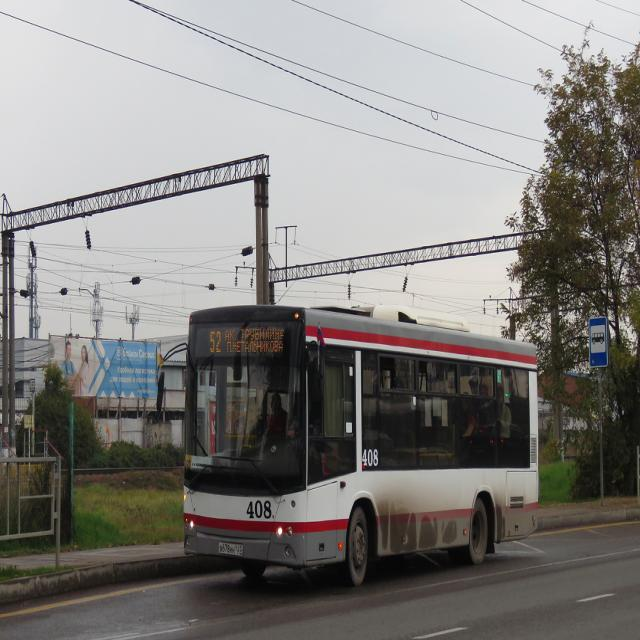number-of-bus: (210, 330, 224, 356), (186, 458, 194, 473)
